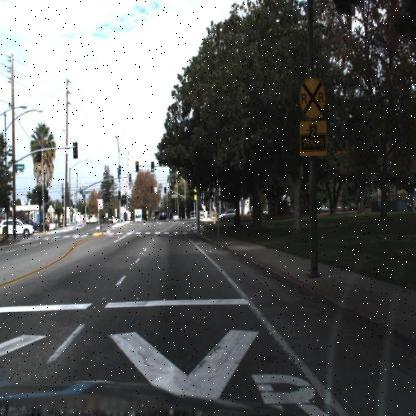car: (0, 217, 34, 240), (216, 207, 238, 224), (158, 208, 169, 224), (172, 207, 182, 221)
trafficLight-Green: (150, 161, 155, 174), (168, 162, 173, 174), (150, 160, 154, 172)
trafficLight-RedLeft: (134, 158, 141, 179), (134, 160, 138, 172)
truck: (132, 203, 143, 224)
